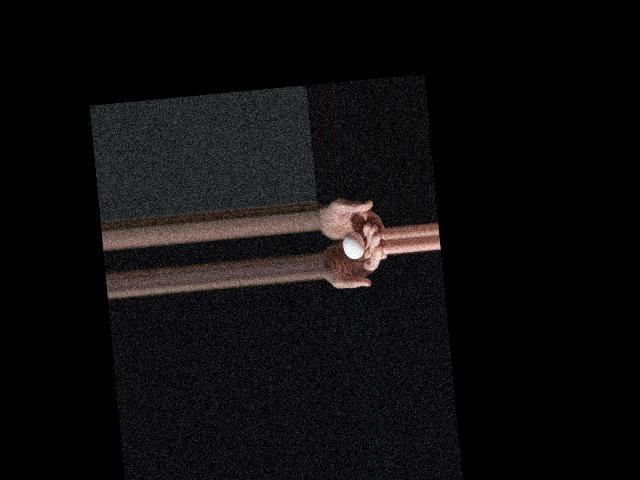egg: (341, 230, 366, 260)
